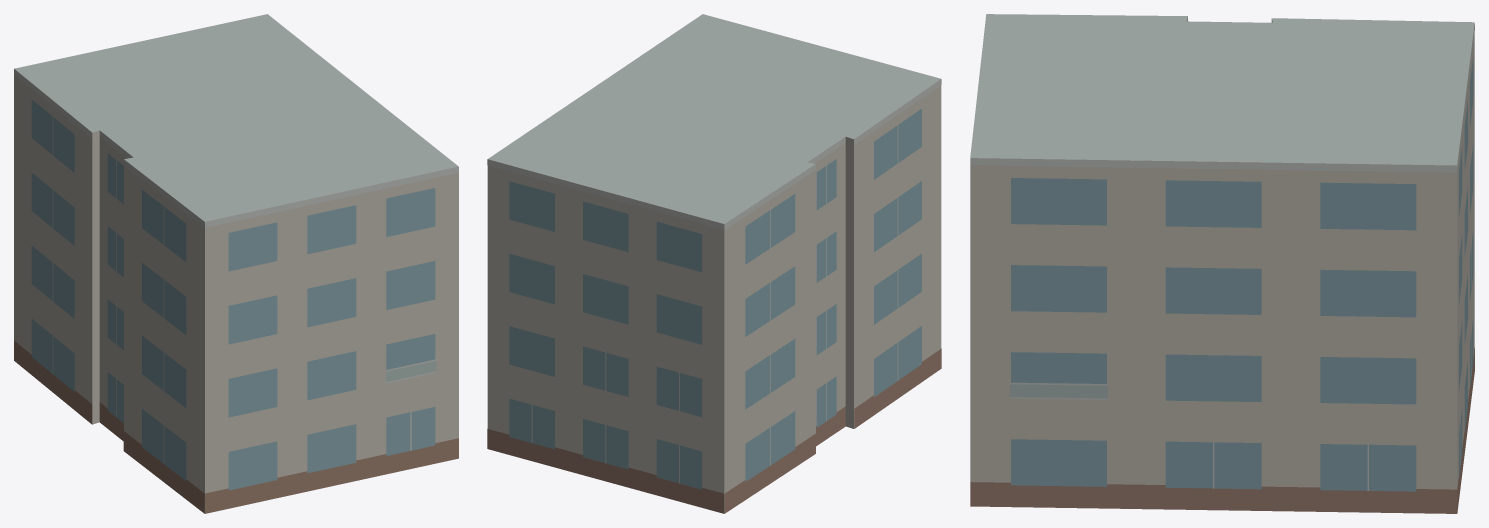
File: survey-upis-32971564.glb
The picture shows the model from 3 angles, left to right: view 1: azimuth 30°, elevation 25°; view 2: azimuth 150°, elevation 25°; view 3: azimuth 270°, elevation 25°; orthographic projection. The views are drawn at different scales.
Parts seen in each view (by area): view 1: survey-upis-32971564.tmp; view 2: survey-upis-32971564.tmp; view 3: survey-upis-32971564.tmp.
Boxes of the visible parts, <box> form: survey-upis-32971564.tmp: <box>14,14,458,513</box>; survey-upis-32971564.tmp: <box>487,14,941,513</box>; survey-upis-32971564.tmp: <box>970,14,1474,513</box>.
Size of the model in its own units: 10.92 by 11.7 by 15.37.
